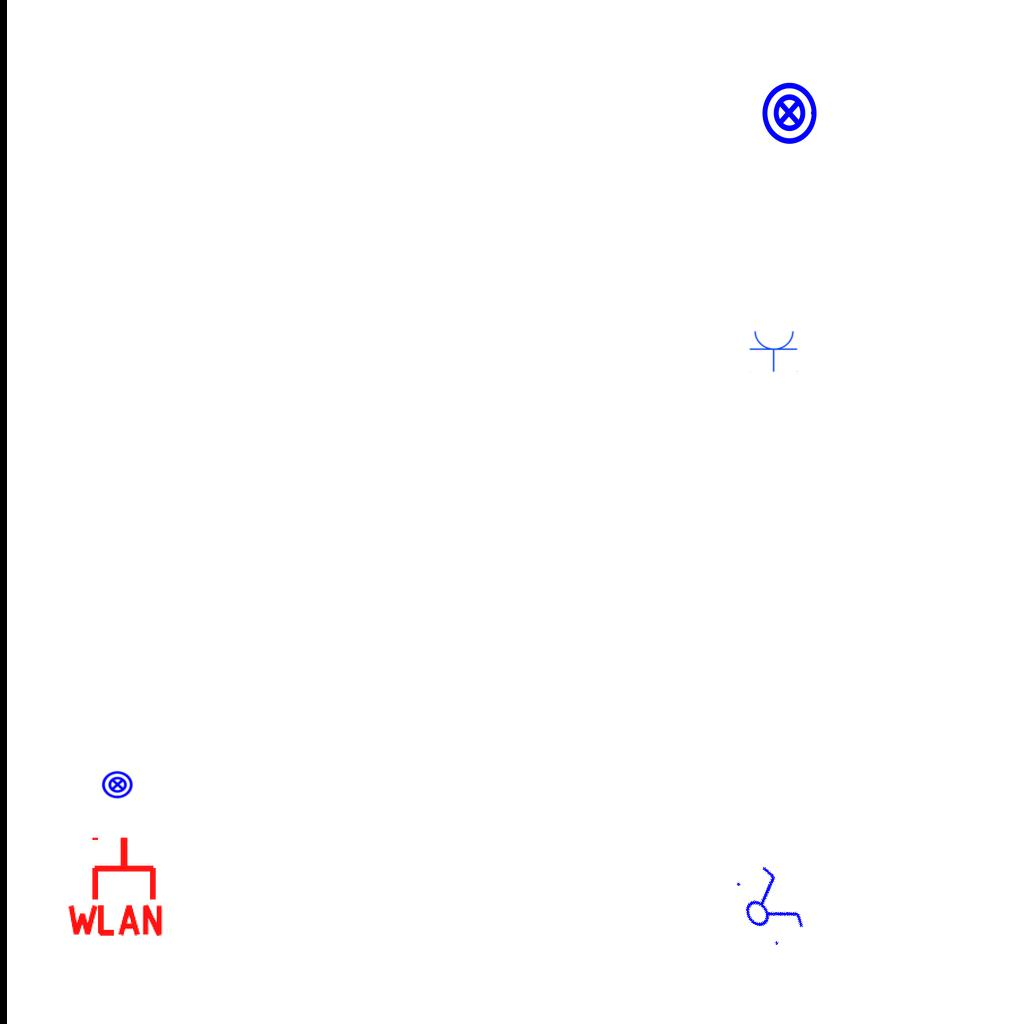Schukosteckdose_einfach: (749, 329, 799, 372)
Serienschalter: (724, 857, 812, 955)
Taster_beleuchtet: (756, 80, 822, 146), (101, 768, 134, 801)
WLAN: (63, 833, 167, 938)
